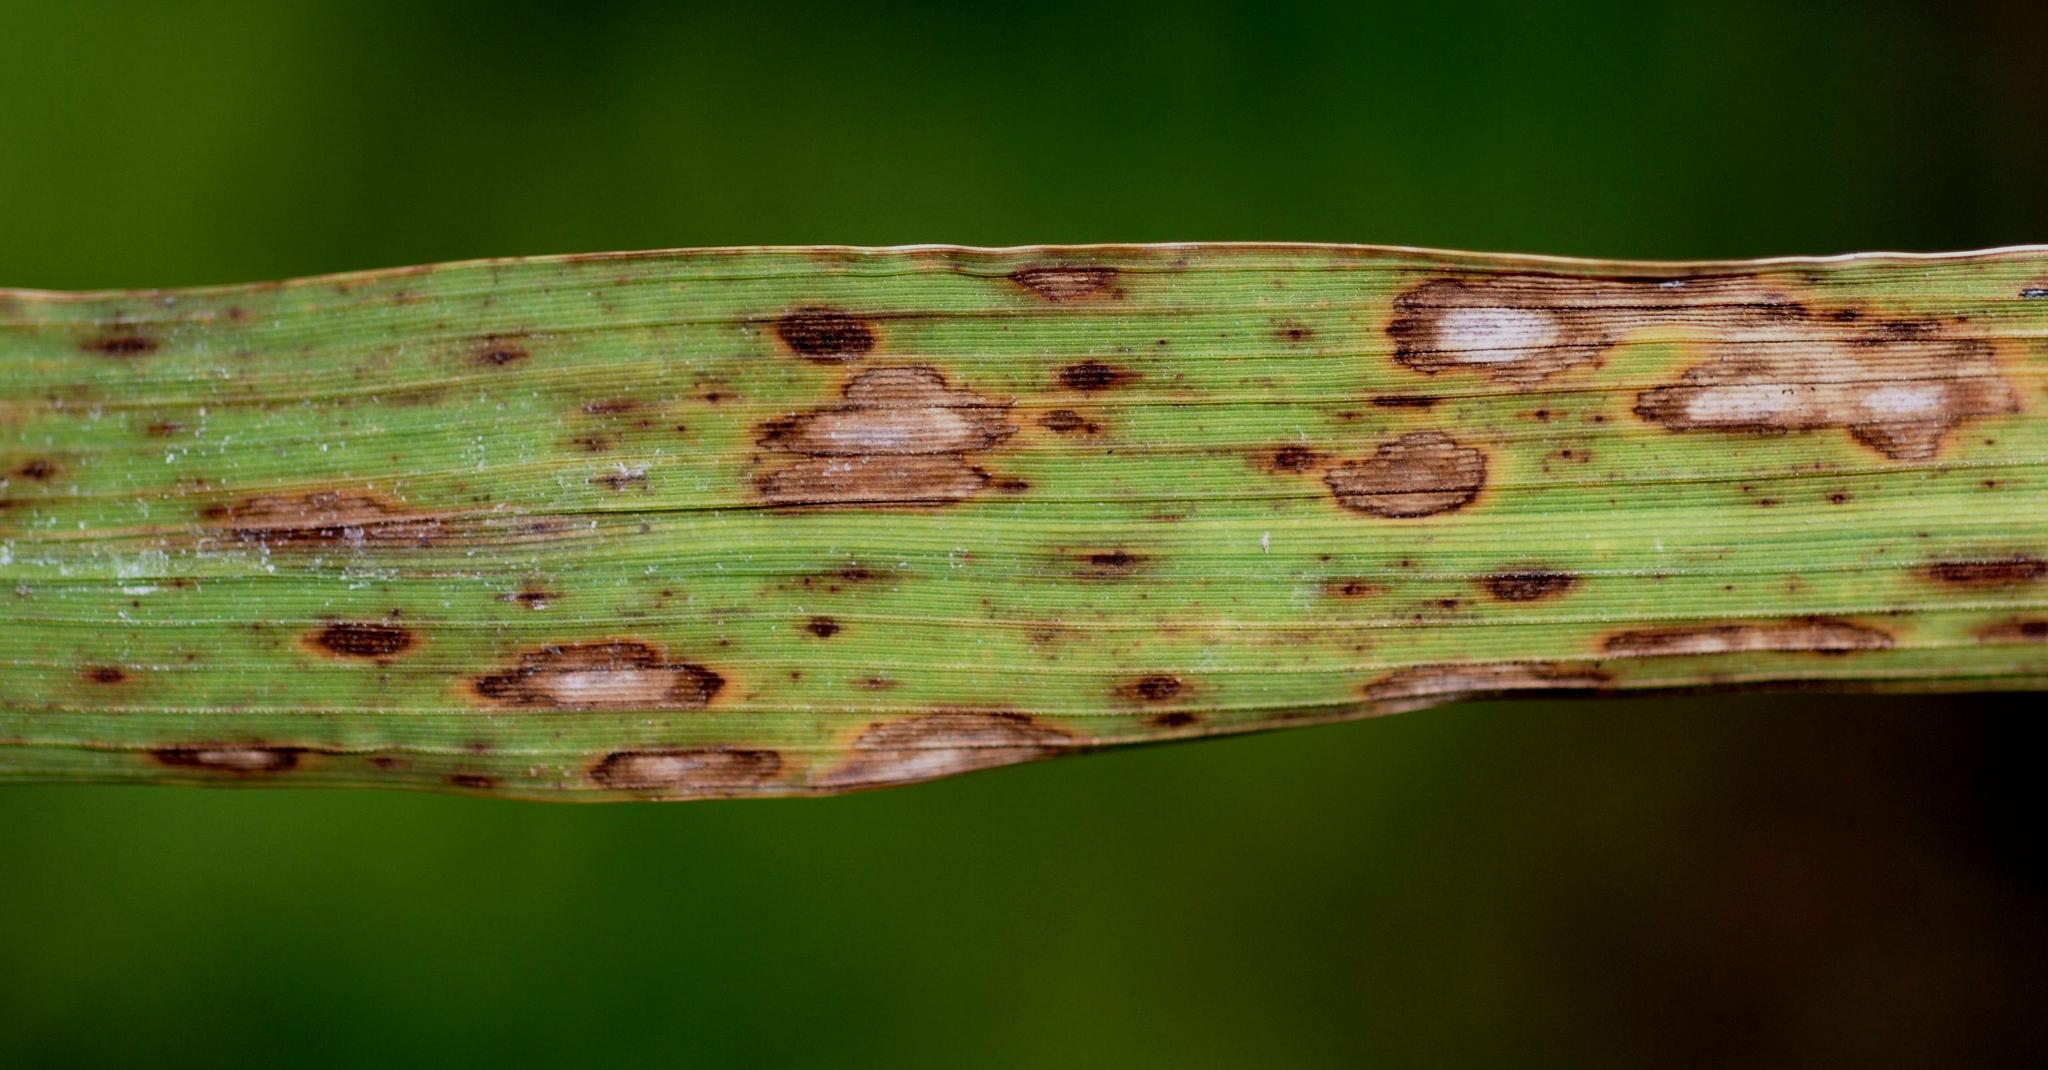0 BrownSpot: (737, 358, 1094, 543), (1587, 322, 2007, 465), (1356, 232, 1624, 381), (163, 465, 601, 555), (447, 599, 765, 722), (1590, 561, 1944, 670), (1229, 419, 1556, 530), (786, 684, 1097, 800), (137, 718, 520, 803), (1894, 513, 2048, 721), (1336, 634, 1600, 725), (247, 562, 442, 672), (1420, 513, 1615, 605), (744, 278, 909, 378), (975, 251, 1149, 310), (1126, 653, 1220, 750), (57, 316, 177, 386)
